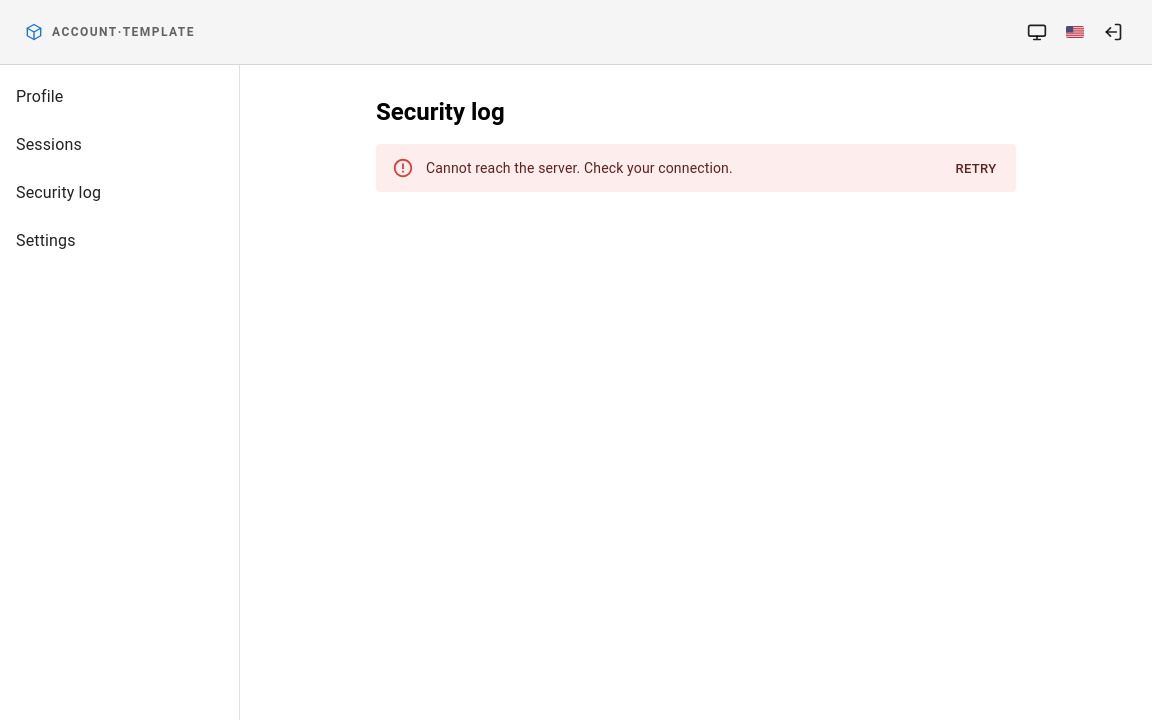
Test: SecurityLogPage › a failed first page is an alert in place of the feed, retry asks again
The image size is (1152, 720).
Expected: the message shows "Cannot reach the server. Check your connection.", [426,160,733,176]
Click the button "Retry": x=976, y=169 [944,154,1008,185]
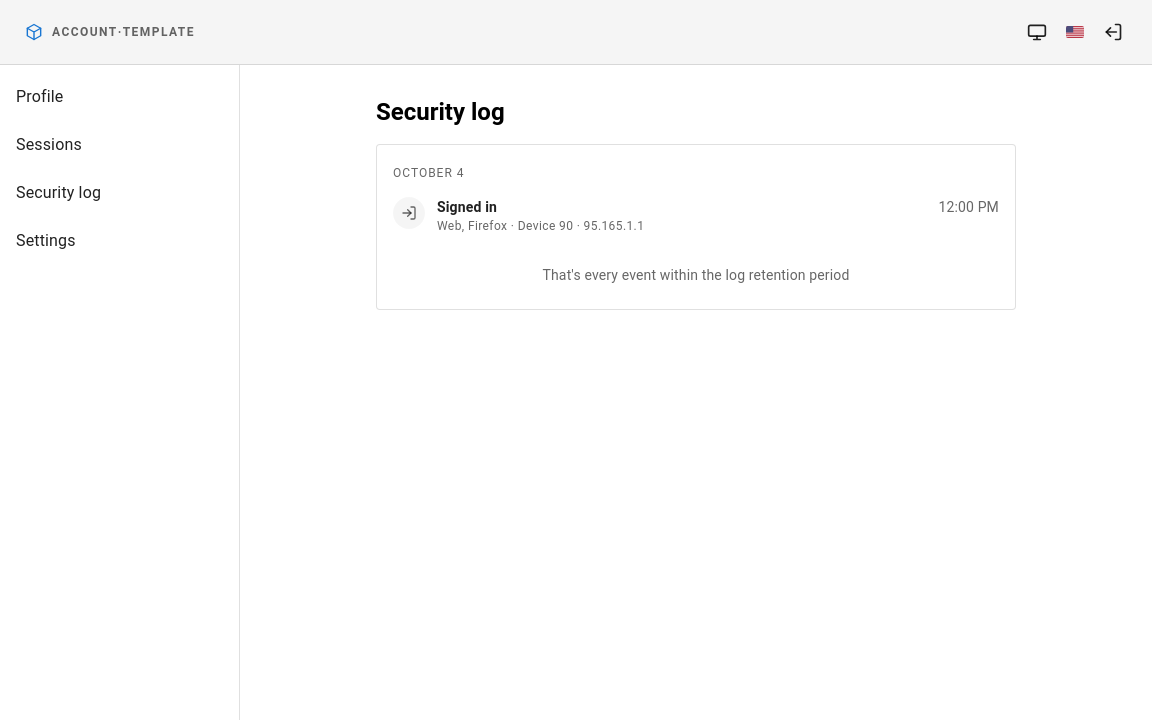
Expected: the text "Web, Firefox · Device 90 · 95.165.1.1" is shown, [437,219,644,233]
